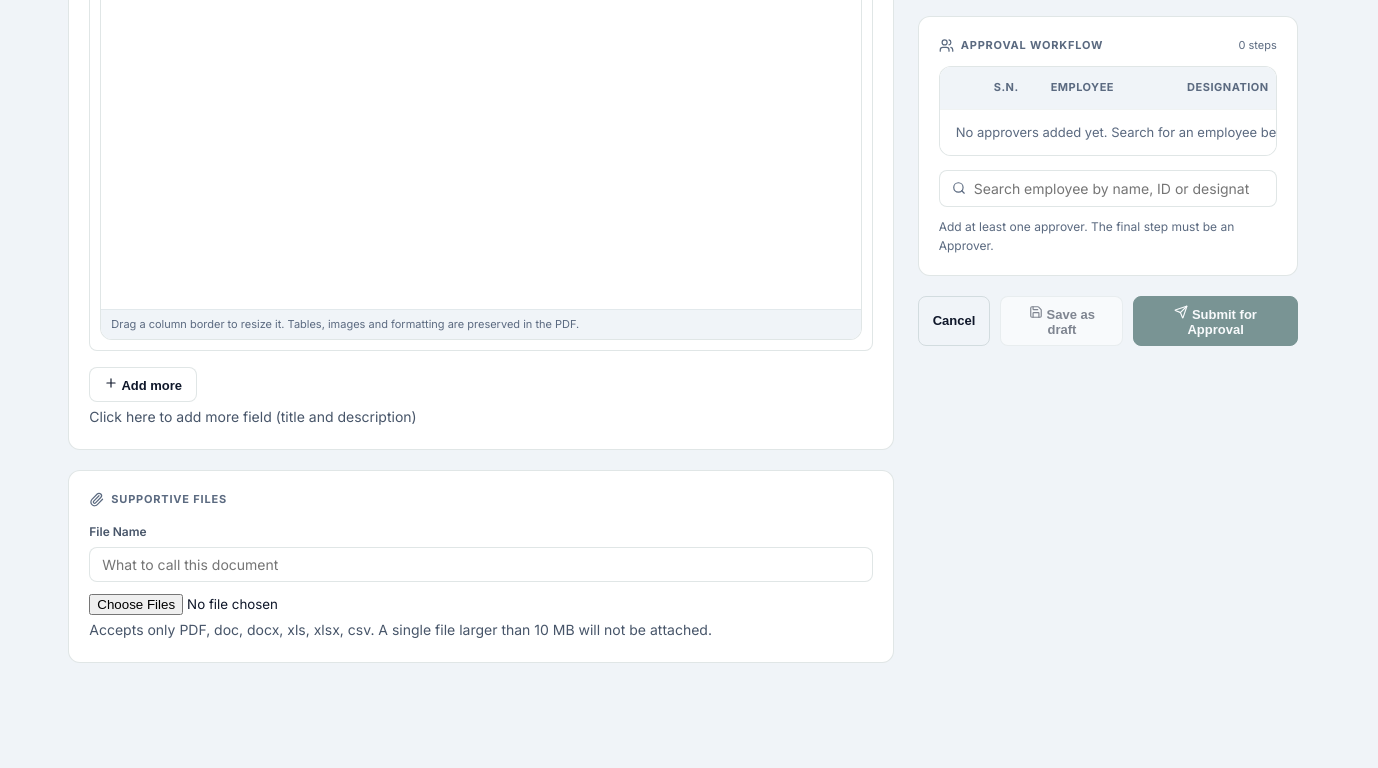
CreateMemo — section titles (MEMO-ENTERPRISE-FINAL-HARDENING) › "+ Add more" creates a titled block, never a blank one
(page scrolled)
Click the button "Add more".
click(143, 385)  # box [89,367,197,402]
(page scrolled)
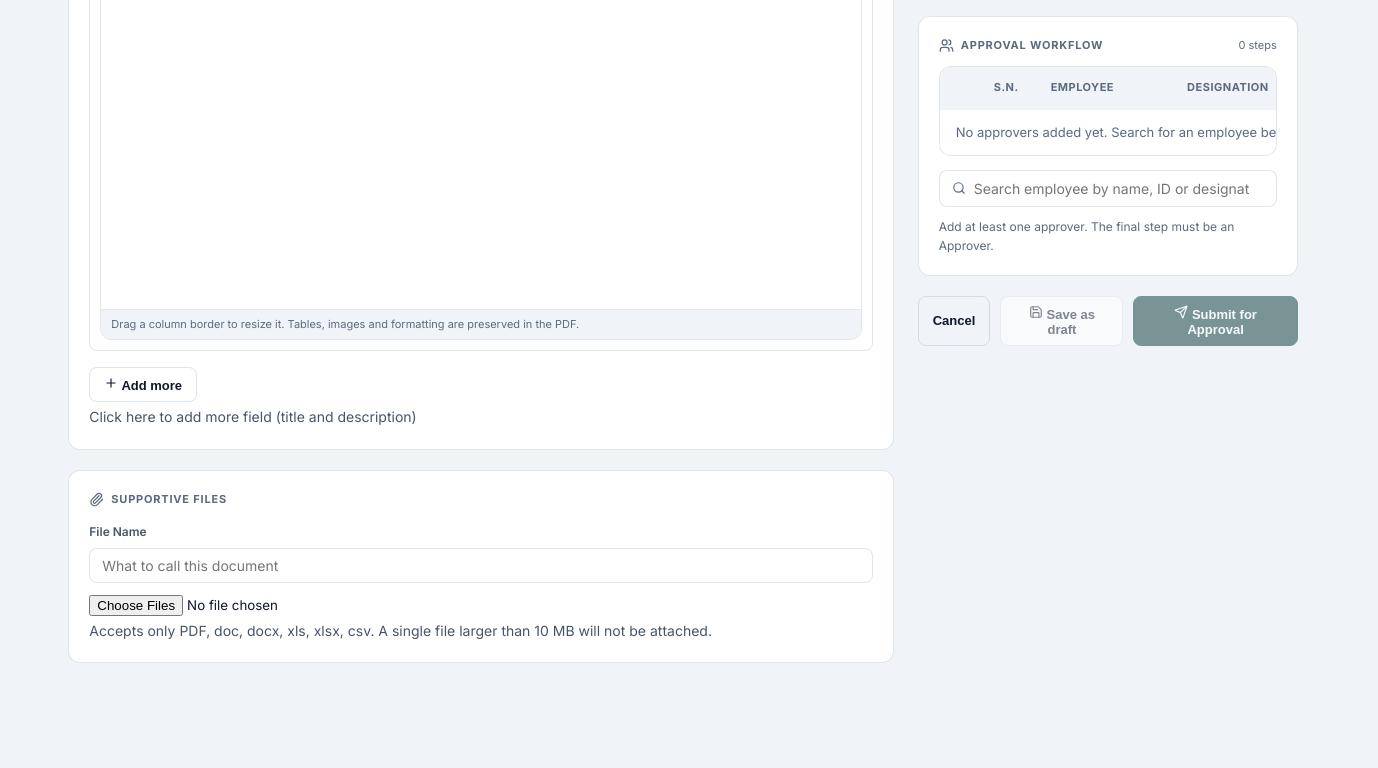
Click the button "Add more".
click(143, 385)  # box [89,367,197,402]
(page scrolled)
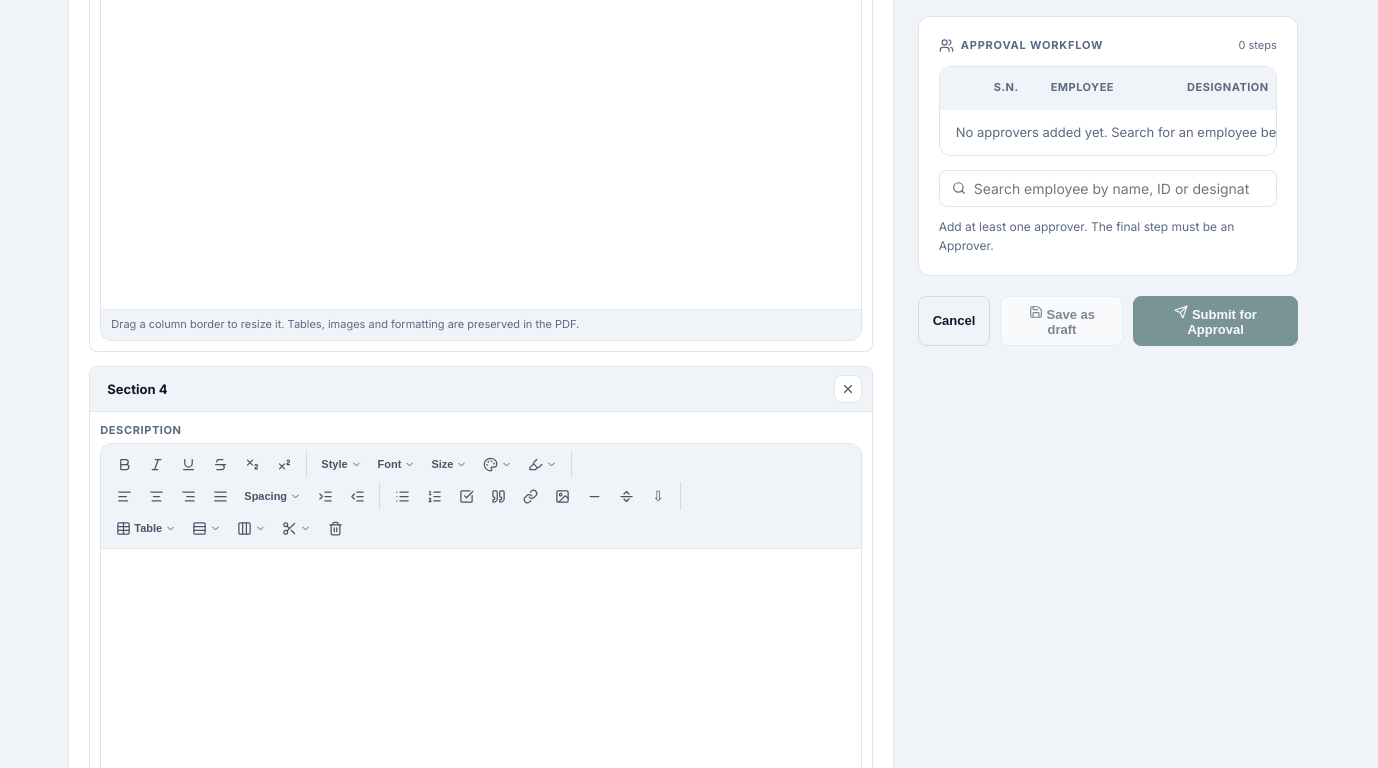
Expected: the field named "Section 4 title" holds "Section 4", [100,376,826,402]
